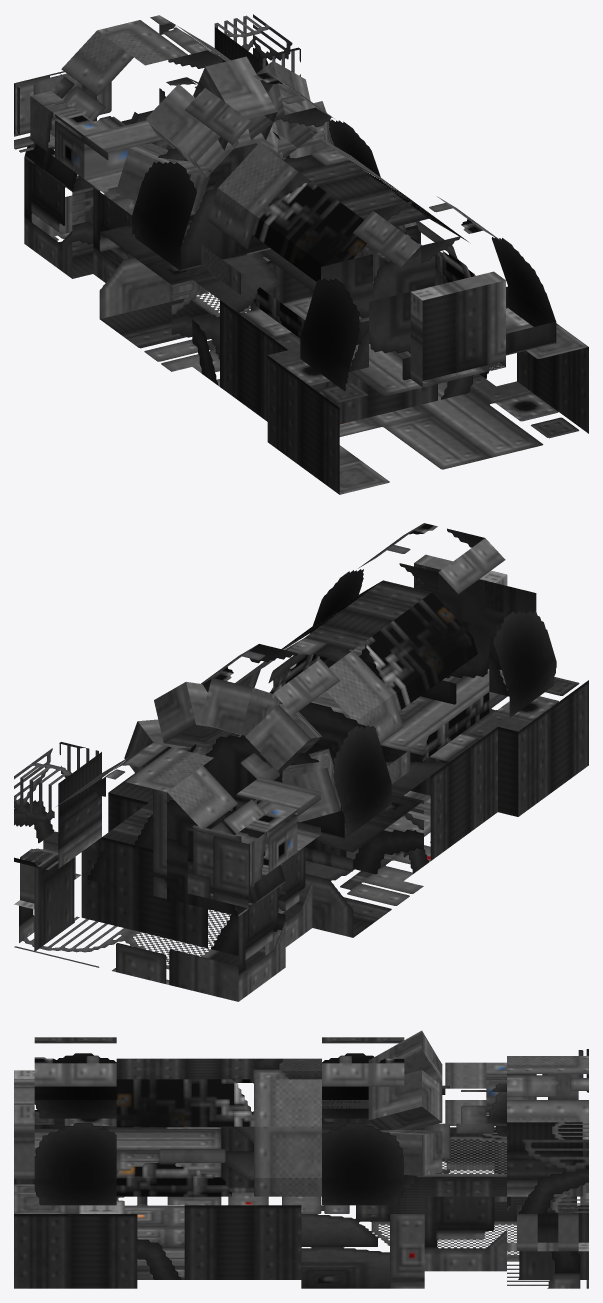
Rendered from gas_turbine_mirrored.obj.
The picture shows the model from 3 angles, top to bottom: view 1: azimuth 30°, elevation 25°; view 2: azimuth 150°, elevation 25°; view 3: azimuth 270°, elevation 25°; orthographic projection. The views are drawn at different scales.
Visible parts, largest first — view 1: Cube.030_Cube.028; view 2: Cube.030_Cube.028; view 3: Cube.030_Cube.028.
Part boxes in pixels (x1=…): Cube.030_Cube.028: x1=14, y1=14, x2=588, y2=494; Cube.030_Cube.028: x1=14, y1=523, x2=588, y2=1001; Cube.030_Cube.028: x1=14, y1=1030, x2=588, y2=1288.
Size of the model in its own units: 3 by 2.62 by 7.
